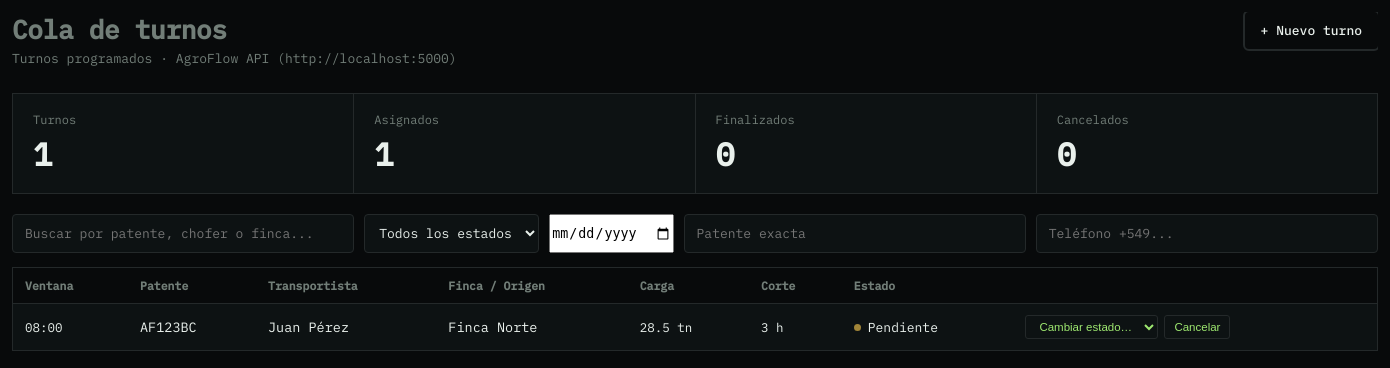
ColaTurnosView › con un filtro incompleto lo informa y no muestra la lista sin filtrar
The width and height of the screenshot is (1390, 368).
Step 1. Type "+5493" into the field with placeholder "Teléfono +549..." → (1207, 234), box [1036,214,1378,253]
Wait 4000 ms
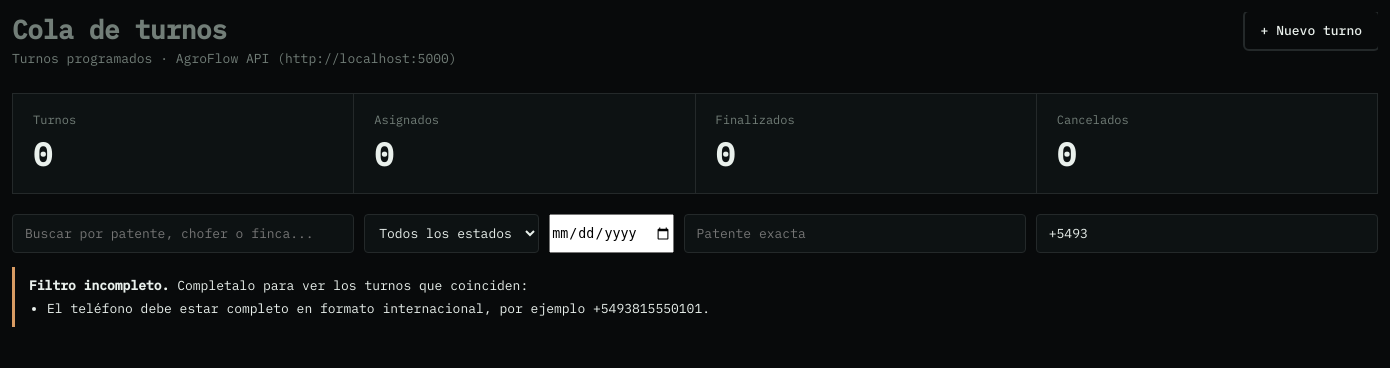
Now the text "Filtro incompleto." is shown, box [29,277,169,294]
Now the text "AF123BC" is gone
